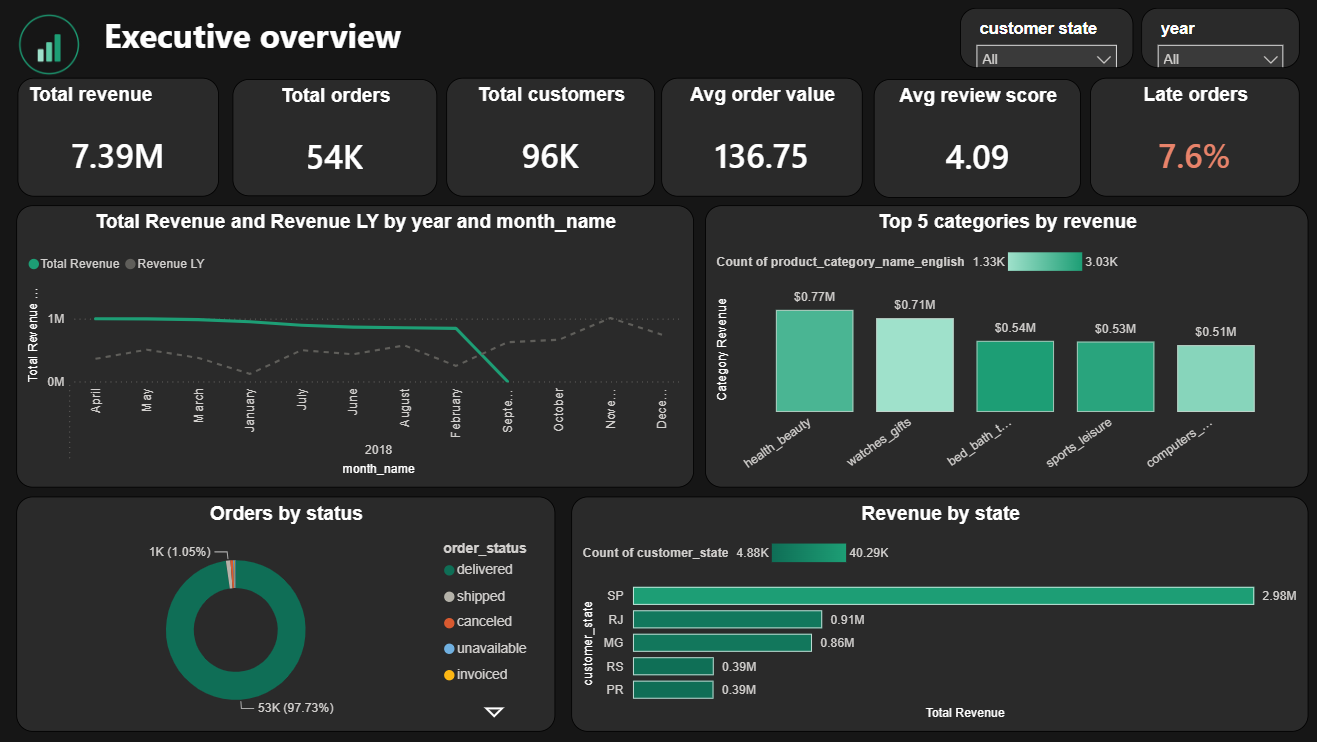

Layout of this report page (visuals, bound fields, positions):
{"tool":"powerbi","page":{"name":"Executive Overview","canvas":[1280,720],"ordinal":1},"visuals":[{"type":"cardVisual","title":"Total revenue","fields":{"Data":["_Measures.Total Revenue"]},"box":[17,76.3,195,115.1],"z":0},{"type":"cardVisual","title":"Avg order value","fields":{"Data":["_Measures.Average Order Value"]},"box":[640.8,76.3,195,115.1],"z":1000},{"type":"cardVisual","title":"Avg review score","fields":{"Data":["_Measures.Avg Review Score"]},"box":[846.7,77.5,201.1,115.1],"z":2000},{"type":"cardVisual","title":"Total customers","fields":{"Data":["_Measures.Total Customers"]},"box":[432.4,76.3,202.3,115.1],"z":3000},{"type":"cardVisual","title":"Late orders","fields":{"Data":["_Measures.% Late Orders"]},"box":[1056.3,76.3,203.5,115.1],"z":4000},{"type":"slicer","fields":{"Values":["dim_date.year"]},"box":[1106.1,8.2,153.7,58.2],"z":5000},{"type":"slicer","fields":{"Values":["dim_customer.customer_state"]},"box":[930.3,8.2,167.7,58.2],"z":6000},{"type":"lineChart","fields":{"Category":["dim_date.year","dim_date.month_name"],"Y":["_Measures.Total Revenue","_Measures.Revenue LY"]},"box":[15.7,199.9,656.5,273.8],"z":7000},{"type":"clusteredBarChart","title":"Revenue by state","fields":{"Category":["dim_customer.customer_state"],"Y":["_Measures.Total Revenue"]},"box":[553.6,482.1,714.7,227.7],"z":8000},{"type":"donutChart","title":"Orders by status","fields":{"Category":["dim_order_status.order_status"],"Y":["_Measures.Total Orders"]},"box":[15.7,482.1,522.1,227.7],"z":9000},{"type":"clusteredColumnChart","title":"Top 5 categories by revenue","fields":{"Category":["dim_product.product_category_name_english"],"Y":["_Measures.Category Revenue"]},"box":[683.2,199.9,585.1,273.8],"z":10000},{"type":"cardVisual","title":"Total orders","fields":{"Data":["_Measures.Total Orders"]},"box":[225.3,77.5,198.7,113.9],"z":11000},{"type":"textbox","box":[95.7,8.5,397.5,95],"z":12000},{"type":"image","box":[0,10.9,95.7,66.6],"z":13000}]}

Visuals, with their boxes in screenshot pixels (x1, y1, x2, y2), scaled from the page's 1280x720 canvas onto the 1317x742 screenshot:
"Total revenue" cardVisual: locate(17, 79, 218, 197)
"Avg order value" cardVisual: locate(659, 79, 860, 197)
"Avg review score" cardVisual: locate(871, 80, 1078, 198)
"Total customers" cardVisual: locate(445, 79, 653, 197)
"Late orders" cardVisual: locate(1087, 79, 1296, 197)
slicer - dim_date.year: locate(1138, 8, 1296, 68)
slicer - dim_customer.customer_state: locate(957, 8, 1130, 68)
lineChart - dim_date.year x dim_date.month_name: locate(16, 206, 692, 488)
"Revenue by state" clusteredBarChart: locate(570, 497, 1305, 731)
"Orders by status" donutChart: locate(16, 497, 553, 731)
"Top 5 categories by revenue" clusteredColumnChart: locate(703, 206, 1305, 488)
"Total orders" cardVisual: locate(232, 80, 436, 197)
textbox: locate(98, 9, 507, 107)
image: locate(0, 11, 98, 80)
